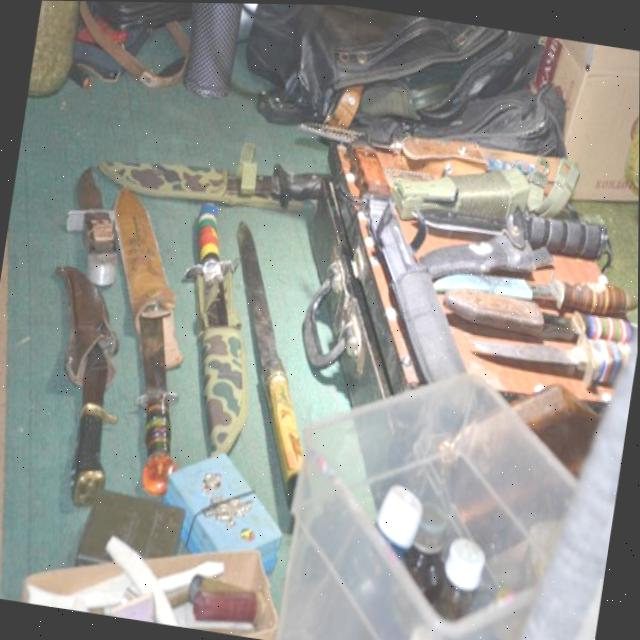knife: (309, 130, 492, 377), (71, 199, 211, 507), (19, 256, 148, 523), (150, 202, 267, 482), (200, 226, 312, 515), (413, 187, 623, 261), (465, 317, 638, 398), (439, 279, 638, 349), (99, 144, 310, 210), (424, 258, 639, 318)
